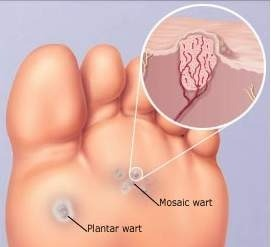Warts: (109, 158, 151, 203), (44, 196, 87, 231)
